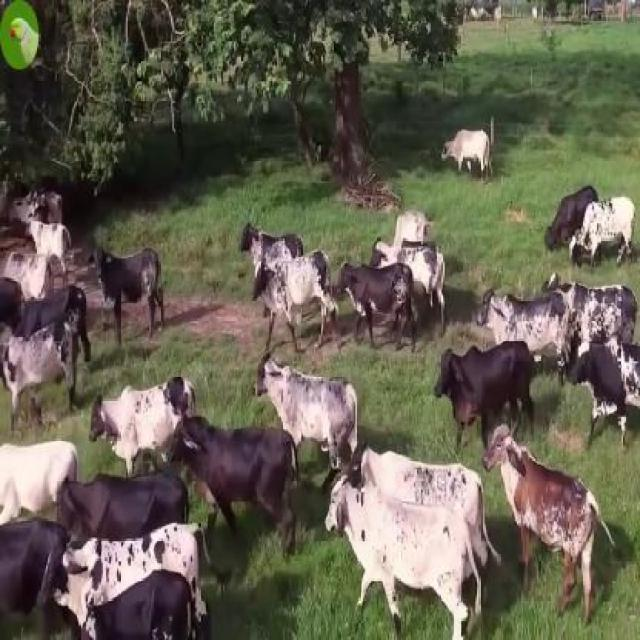Cow: (326, 474, 480, 638)
